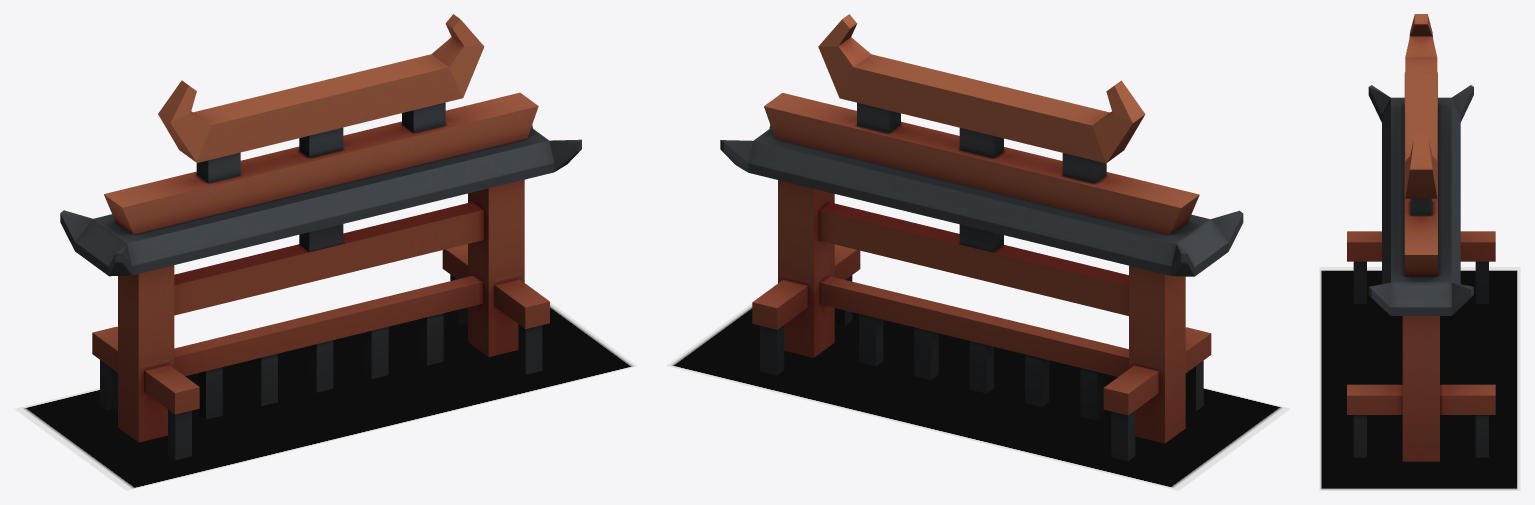
File: 3x1_gate.FBX
3 renders of one model, left to right at view 1: azimuth 30°, elevation 25°; view 2: azimuth 150°, elevation 25°; view 3: azimuth 270°, elevation 25°, orthographic. The views are drawn at different scales.
Parts seen in each view (by area): view 1: 3x1_gate, 3x1_gate_soft_shadow; view 2: 3x1_gate, 3x1_gate_soft_shadow; view 3: 3x1_gate, 3x1_gate_soft_shadow.
Boxes of the visible parts, x1=… form: 3x1_gate: x1=60, y1=14, x2=581, y2=460; 3x1_gate_soft_shadow: x1=14, y1=302, x2=637, y2=490; 3x1_gate: x1=720, y1=14, x2=1243, y2=461; 3x1_gate_soft_shadow: x1=666, y1=303, x2=1290, y2=490; 3x1_gate: x1=1347, y1=14, x2=1495, y2=461; 3x1_gate_soft_shadow: x1=1319, y1=267, x2=1520, y2=490.
Size of the model in its own units: 3680 by 2344 by 1396.
